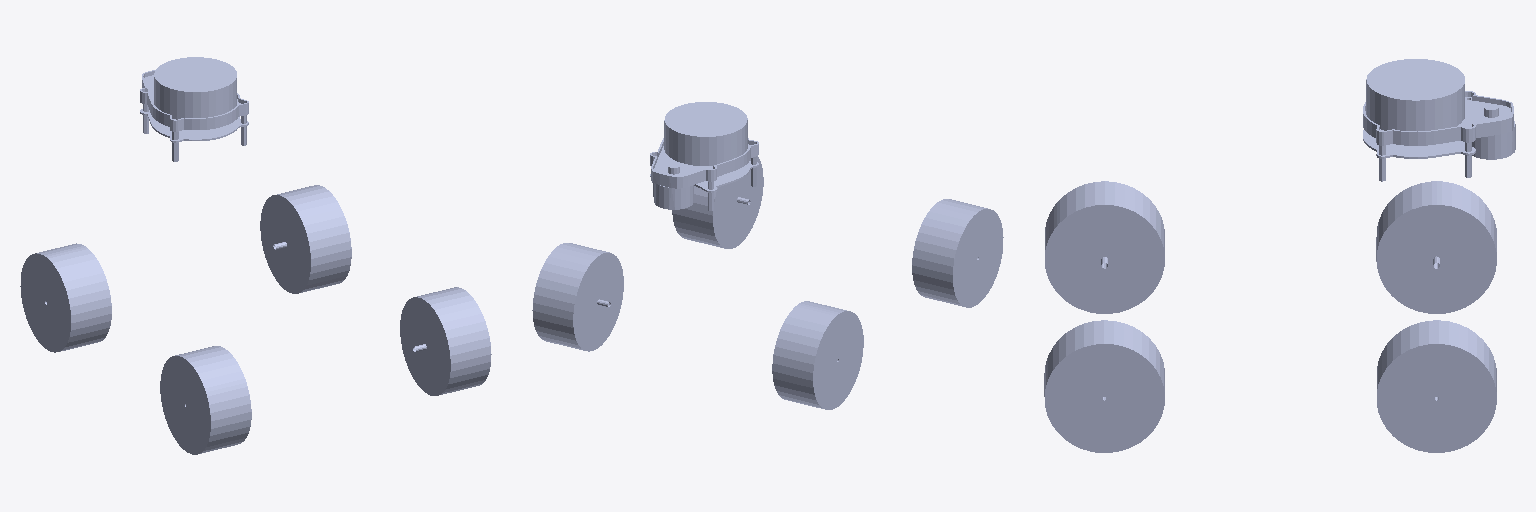
robot.urdf — robot_description:
<?xml version="1.0" encoding="utf-8"?>
<!-- This URDF was automatically created by SolidWorks to URDF Exporter! Originally created by [author] ([email redacted]) 
     Commit Version: 1.6.0-4-g7f85cfe  Build Version: 1.6.7995.38578
     For more information, please see http://wiki.ros.org/sw_urdf_exporter -->
<robot
  name="robot_description">

<link name="base_footprint"/>
 
    <joint name="base_footprint_joint" type="fixed">
      <origin xyz="0 0 0.065" rpy="0 0 0" />
      <parent link="base_footprint"/>
      <child link="base_link" />
    </joint>

  <link
    name="base_link">
    <inertial>
      <origin
        xyz="0.000157829100166623 -0.00314105508408472 0.0214281198373021"
        rpy="0 0 0" />
      <mass
        value="0.735451341319549" />
      <inertia
        ixx="0.0040759669785994"
        ixy="-3.36441512090779E-07"
        ixz="-6.7607661151319E-08"
        iyy="0.00172437353361341"
        iyz="4.00243120794907E-06"
        izz="0.00578039602875465" />
    </inertial>
    <visual>
      <origin
        xyz="0 0 0"
        rpy="0 0 0" />
      <geometry>
        <mesh
          filename="package://robot_description/meshes/base_link.STL" />
      </geometry>
      <material
        name="">
        <color
          rgba="0.792156862745098 0.819607843137255 0.933333333333333 1" />
      </material>
    </visual>
    <collision>
      <origin
        xyz="0 0 0"
        rpy="0 0 0" />
      <geometry>
        <mesh
          filename="package://robot_description/meshes/base_link.STL" />
      </geometry>
    </collision>
  </link>
  <link
    name="left1_link">
    <inertial>
      <origin
        xyz="1.74895109449763E-06 0 0"
        rpy="0 0 0" />
      <mass
        value="0.18573457051178" />
      <inertia
        ixx="0.00014878560078214"
        ixy="2.61583694210615E-37"
        ixz="-5.55647484456475E-19"
        iyy="9.55881907150859E-05"
        iyz="7.85642079114842E-38"
        izz="9.55881907150859E-05" />
    </inertial>
    <visual>
      <origin
        xyz="0 0 0"
        rpy="0 0 0" />
      <geometry>
        <mesh
          filename="package://robot_description/meshes/left1_link.STL" />
      </geometry>
      <material
        name="">
        <color
          rgba="0.792156862745098 0.819607843137255 0.933333333333333 1" />
      </material>
    </visual>
    <collision>
      <origin
        xyz="0 0 0"
        rpy="0 0 0" />
      <geometry>
        <mesh
          filename="package://robot_description/meshes/left1_link.STL" />
      </geometry>
    </collision>
  </link>
  <joint
    name="left1_joint"
    type="continuous">
    <origin
      xyz="-0.109 0.11 -0.02"
      rpy="0 0 0" />
    <parent
      link="base_link" />
    <child
      link="left1_link" />
    <axis
      xyz="-1 0 0" />
  </joint>
  <link
    name="right1_link">
    <inertial>
      <origin
        xyz="-1.74895109450457E-06 0 0"
        rpy="0 0 0" />
      <mass
        value="0.18573457051178" />
      <inertia
        ixx="0.00014878560078214"
        ixy="5.31609239119842E-20"
        ixz="8.9290545596675E-21"
        iyy="9.55881907150857E-05"
        iyz="7.35634748938001E-21"
        izz="9.55881907150857E-05" />
    </inertial>
    <visual>
      <origin
        xyz="0 0 0"
        rpy="0 0 0" />
      <geometry>
        <mesh
          filename="package://robot_description/meshes/right1_link.STL" />
      </geometry>
      <material
        name="">
        <color
          rgba="0.792156862745098 0.819607843137255 0.933333333333333 1" />
      </material>
    </visual>
    <collision>
      <origin
        xyz="0 0 0"
        rpy="0 0 0" />
      <geometry>
        <mesh
          filename="package://robot_description/meshes/right1_link.STL" />
      </geometry>
    </collision>
  </link>
  <joint
    name="right1_joint"
    type="continuous">
    <origin
      xyz="0.109 0.11 -0.02"
      rpy="0 0 0" />
    <parent
      link="base_link" />
    <child
      link="right1_link" />
    <axis
      xyz="-1 0 0" />
  </joint>
  <link
    name="left2_link">
    <inertial>
      <origin
        xyz="1.74895109449069E-06 -1.38777878078145E-17 0"
        rpy="0 0 0" />
      <mass
        value="0.18573457051178" />
      <inertia
        ixx="0.00014878560078214"
        ixy="6.59077039371958E-20"
        ixz="-7.14722518869827E-21"
        iyy="9.55881907150859E-05"
        iyz="-7.25369432150928E-21"
        izz="9.55881907150859E-05" />
    </inertial>
    <visual>
      <origin
        xyz="0 0 0"
        rpy="0 0 0" />
      <geometry>
        <mesh
          filename="package://robot_description/meshes/left2_link.STL" />
      </geometry>
      <material
        name="">
        <color
          rgba="0.792156862745098 0.819607843137255 0.933333333333333 1" />
      </material>
    </visual>
    <collision>
      <origin
        xyz="0 0 0"
        rpy="0 0 0" />
      <geometry>
        <mesh
          filename="package://robot_description/meshes/left2_link.STL" />
      </geometry>
    </collision>
  </link>
  <joint
    name="left2_joint"
    type="continuous">
    <origin
      xyz="-0.109 -0.11 -0.02"
      rpy="0 0 0" />
    <parent
      link="base_link" />
    <child
      link="left2_link" />
    <axis
      xyz="1 0 0" />
  </joint>
  <link
    name="right2_link">
    <inertial>
      <origin
        xyz="-1.74895109450457E-06 1.38777878078145E-17 2.77555756156289E-17"
        rpy="0 0 0" />
      <mass
        value="0.18573457051178" />
      <inertia
        ixx="0.00014878560078214"
        ixy="6.69667896917803E-20"
        ixz="-7.18497798353105E-21"
        iyy="9.55881907150858E-05"
        iyz="4.06166316523365E-21"
        izz="9.55881907150858E-05" />
    </inertial>
    <visual>
      <origin
        xyz="0 0 0"
        rpy="0 0 0" />
      <geometry>
        <mesh
          filename="package://robot_description/meshes/right2_link.STL" />
      </geometry>
      <material
        name="">
        <color
          rgba="0.792156862745098 0.819607843137255 0.933333333333333 1" />
      </material>
    </visual>
    <collision>
      <origin
        xyz="0 0 0"
        rpy="0 0 0" />
      <geometry>
        <mesh
          filename="package://robot_description/meshes/right2_link.STL" />
      </geometry>
    </collision>
  </link>
  <joint
    name="right2_joint"
    type="continuous">
    <origin
      xyz="0.109 -0.11 -0.02"
      rpy="0 0 0" />
    <parent
      link="base_link" />
    <child
      link="right2_link" />
    <axis
      xyz="1 0 0" />
  </joint>
  <link
    name="laser_frame">
    <inertial>
      <origin
        xyz="4.07755298345858E-05 0.00829399933921326 -0.00854885777720904"
        rpy="0 0 0" />
      <mass
        value="0.146695752131392" />
      <inertia
        ixx="0.000109672851929357"
        ixy="-2.33034776451393E-07"
        ixz="9.27482598303586E-08"
        iyy="6.22732577408729E-05"
        iyz="1.88655796474337E-05"
        izz="0.000125682524275729" />
    </inertial>
    <visual>
      <origin
        xyz="0 0 0"
        rpy="0 0 0" />
      <geometry>
        <mesh
          filename="package://robot_description/meshes/lidar_link.STL" />
      </geometry>
      <material
        name="">
        <color
          rgba="0.792156862745098 0.819607843137255 0.933333333333333 1" />
      </material>
    </visual>
    <collision>
      <origin
        xyz="0 0 0"
        rpy="0 0 0" />
      <geometry>
        <mesh
          filename="package://robot_description/meshes/lidar_link.STL" />
      </geometry>
    </collision>
  </link>
  <joint
    name="laser_joint"
    type="fixed">
    <origin
      xyz="0.00077818 0.096194 0.14125"
      rpy="0 0 0" />
    <parent
      link="base_link" />
    <child
      link="laser_frame" />
    <axis
      xyz="0 0 0" />
  </joint>
</robot>

--- Render facts (derived) ---
3 views of the same robot in one strip: view 1: azimuth 30°, elevation 25°; view 2: azimuth 150°, elevation 25°; view 3: azimuth 270°, elevation 25° (orthographic).
Model robot_description with 7 links and 6 joints (4 continuous, 2 fixed), rooted at base_footprint, posed every joint at zero.
Links seen in each view (by area): view 1: right1_link, left2_link, left1_link, right2_link, laser_frame; view 2: laser_frame, left1_link, left2_link, right1_link, right2_link; view 3: left1_link, right2_link, right1_link, left2_link, laser_frame.
Boxes of the visible links, x1,y1,x2,y2 form: right1_link: [260, 185, 351, 293]; left2_link: [160, 346, 251, 454]; left1_link: [20, 243, 111, 352]; right2_link: [400, 287, 491, 395]; laser_frame: [140, 57, 248, 161]; laser_frame: [650, 102, 758, 210]; left1_link: [772, 301, 863, 409]; left2_link: [912, 199, 1003, 307]; right1_link: [532, 243, 623, 351]; right2_link: [672, 156, 763, 248]; left1_link: [1376, 181, 1496, 313]; right2_link: [1044, 320, 1164, 452]; right1_link: [1377, 320, 1496, 452]; left2_link: [1045, 181, 1164, 313]; laser_frame: [1363, 59, 1515, 181].
Size in the robot's own frame: 0.255 by 0.3122 by 0.214 metres.
5 mesh visuals loaded from 6 distinct referenced files (5 binary STL); not drawn: 1 (reference not matched to a file when rendering).